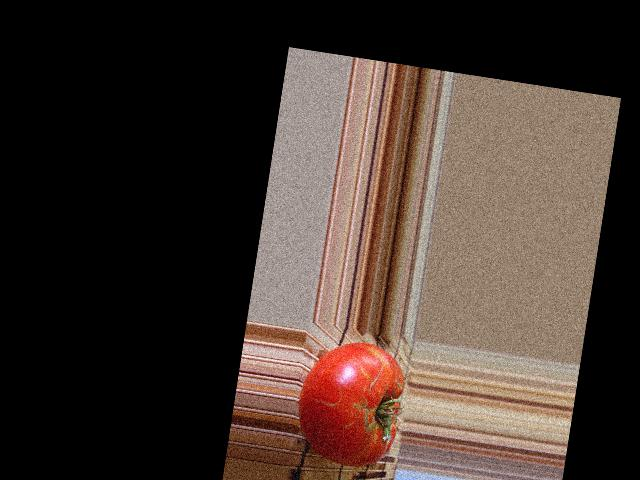tomato: (291, 335, 409, 472)
